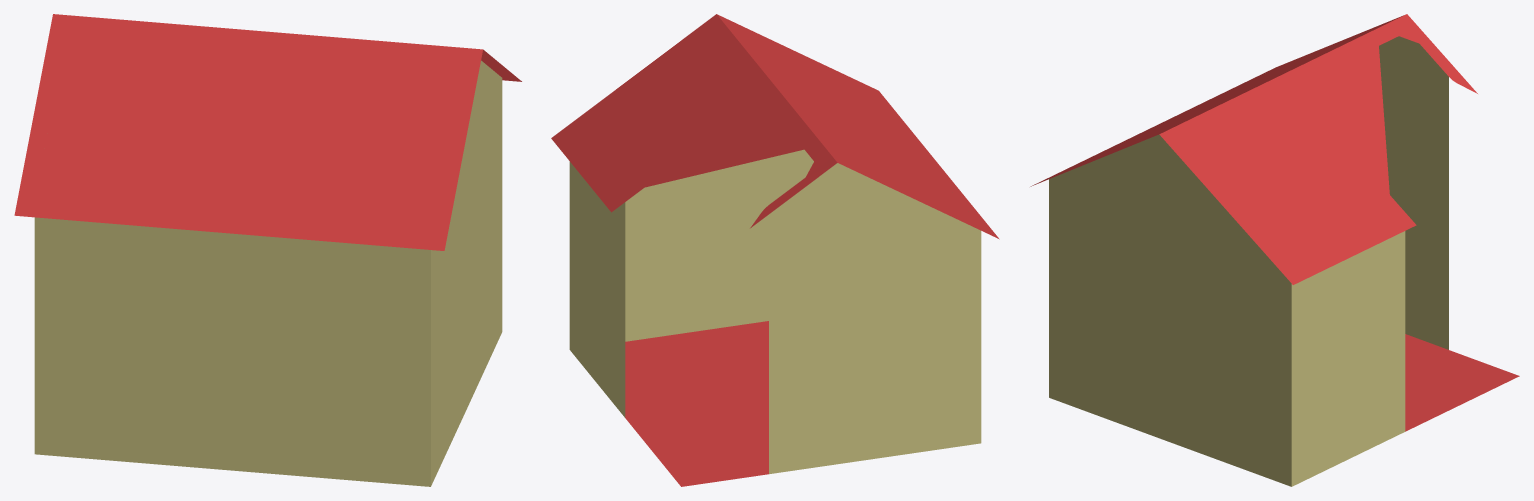
3 renders of one model, left to right at view 1: azimuth 30°, elevation 25°; view 2: azimuth 150°, elevation 25°; view 3: azimuth 270°, elevation 25°, orthographic. The views are drawn at different scales.
Size of the model in its own units: 17.29 by 16.49 by 11.55.
